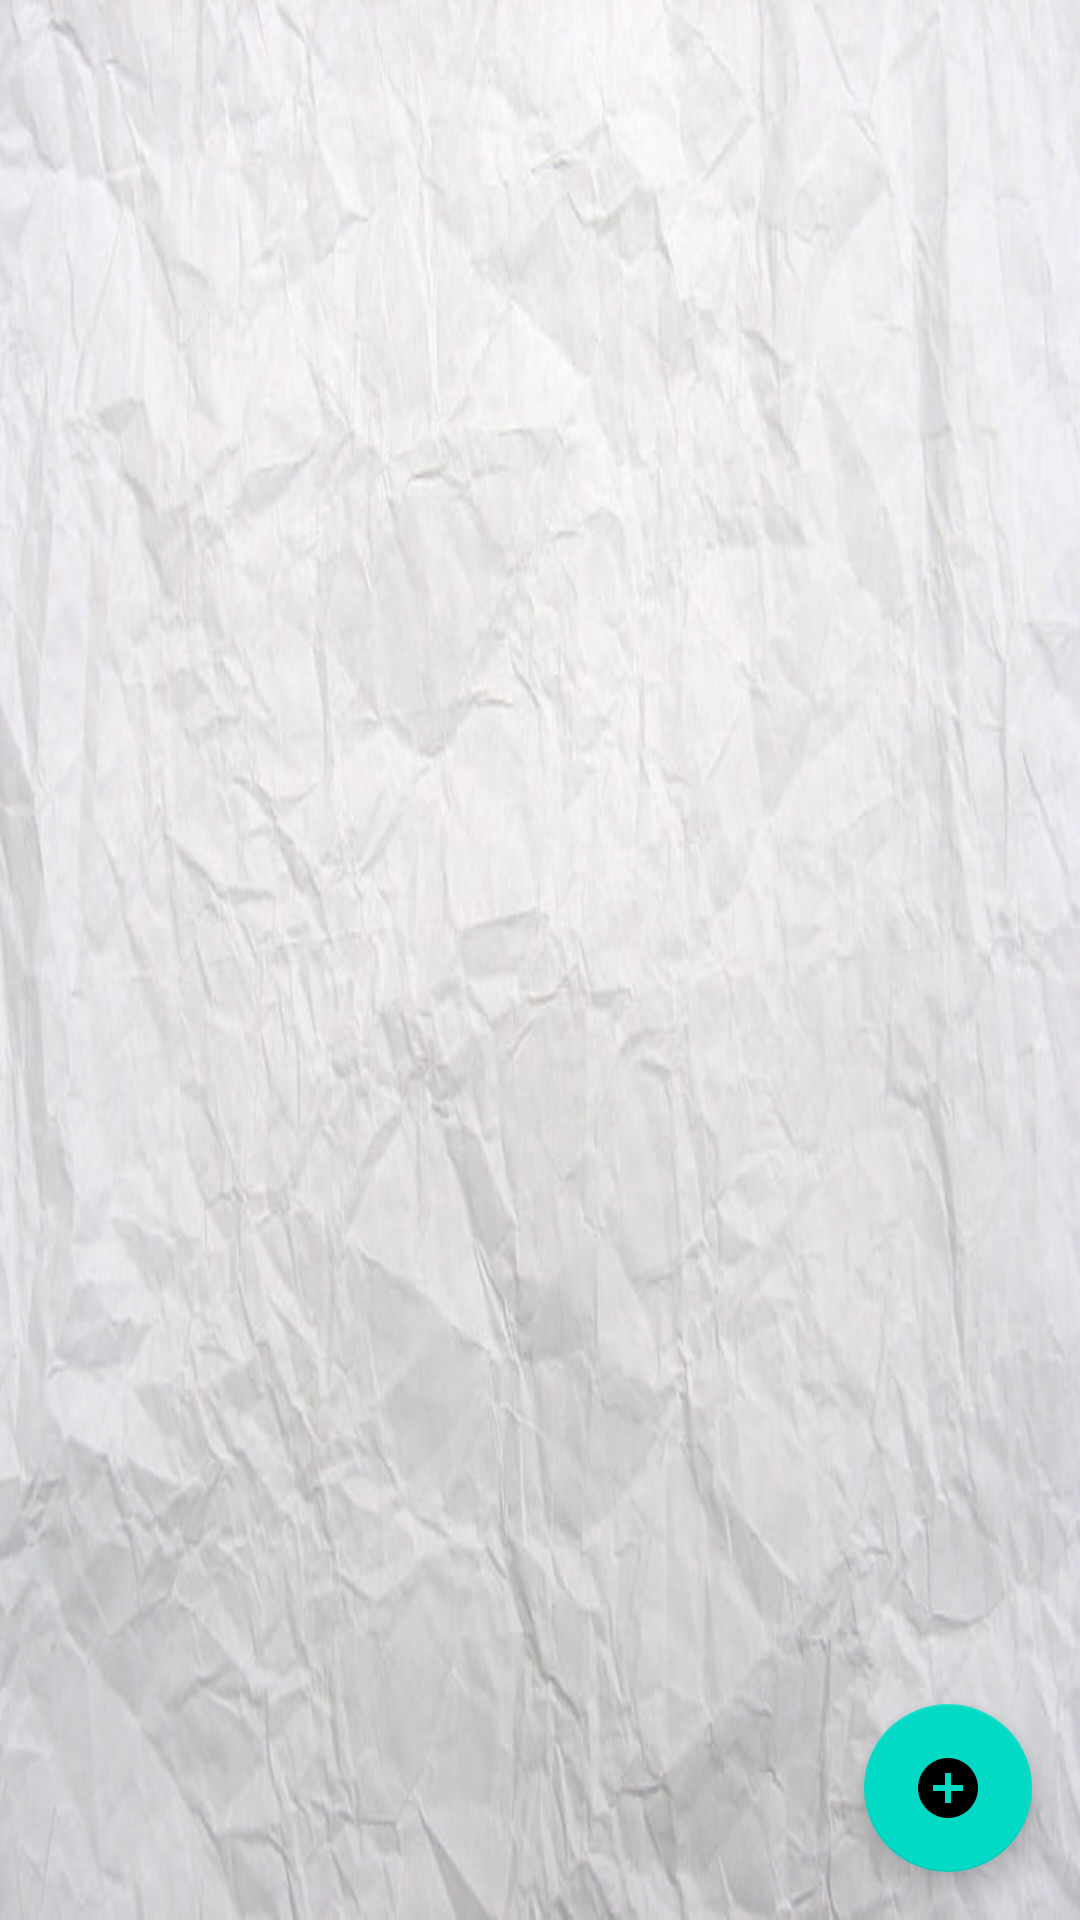

Where icons sit on this 1080×1920 app screen, as (x1, y1, x2, y2):
add circle: (864, 1704, 1032, 1872)
